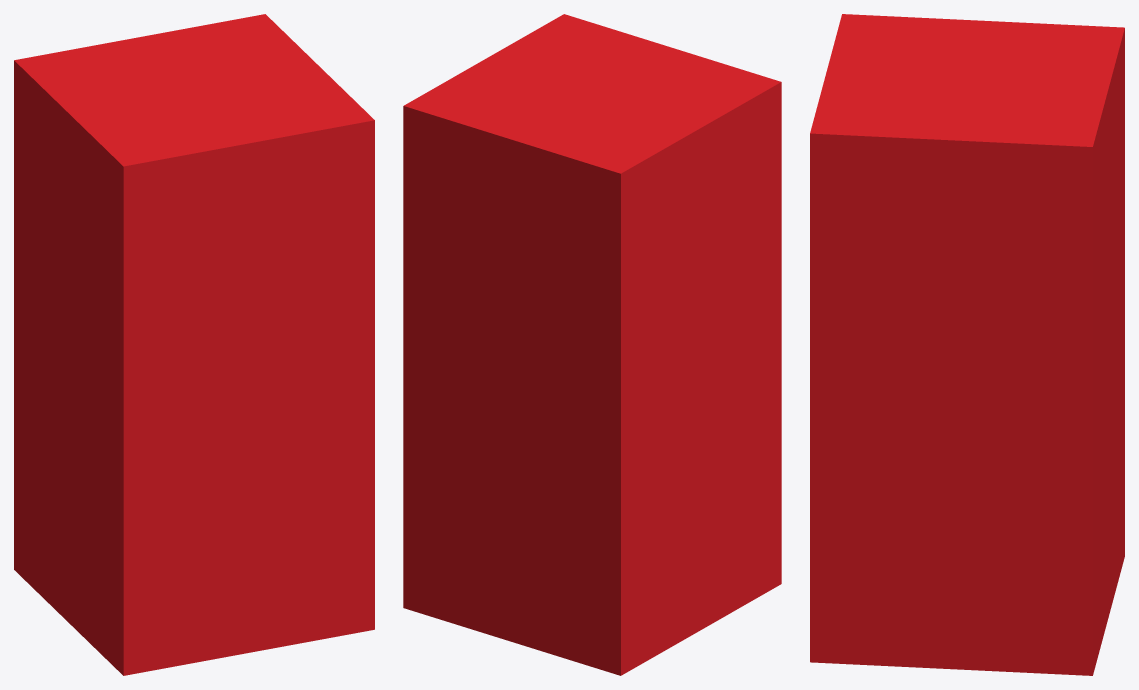
Rendered from immeuble_texture.glb.
3 views of the same model, side by side, from view 1: azimuth 30°, elevation 25°; view 2: azimuth 150°, elevation 25°; view 3: azimuth 270°, elevation 25° (orthographic). The views are drawn at different scales.
Visible parts, largest first — view 1: mesh_id27; view 2: mesh_id27; view 3: mesh_id27.
Part boxes in pixels (<box>): mesh_id27: <box>14,14,374,675</box>; mesh_id27: <box>403,14,781,675</box>; mesh_id27: <box>810,14,1124,675</box>.
Bounding box in the file's own units: 0.3279 × 0.6075 × 0.3279.
Materials: 1 (1 with a texture image).
